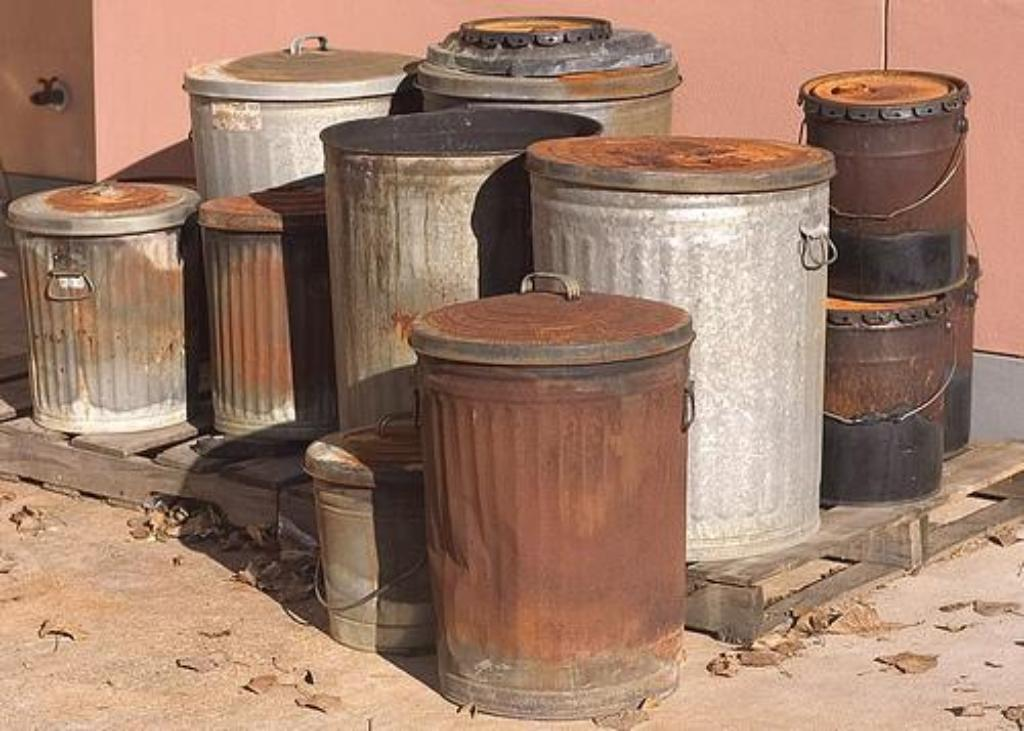dustbin: (394, 283, 711, 692), (21, 167, 211, 470)
